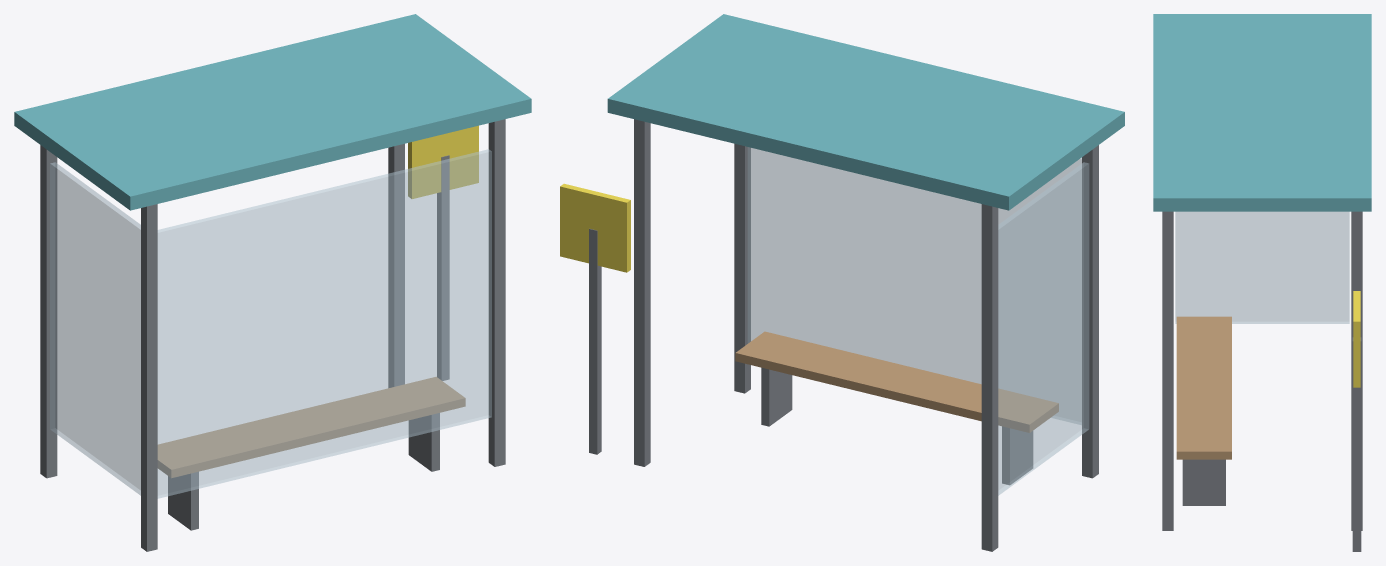
File: bus_stop.glb
3 views of the same model, side by side, from view 1: azimuth 30°, elevation 25°; view 2: azimuth 150°, elevation 25°; view 3: azimuth 270°, elevation 25° (orthographic). The views are drawn at different scales.
Visible parts, largest first — view 1: bus_stop; view 2: bus_stop; view 3: bus_stop.
Boxes of the visible parts, left/top/right/bottom form: bus_stop: left=14, top=14, right=531, bottom=551; bus_stop: left=560, top=14, right=1124, bottom=551; bus_stop: left=1153, top=14, right=1371, bottom=551.
Size of the model in its own units: 3.4 by 2.6 by 1.5.
